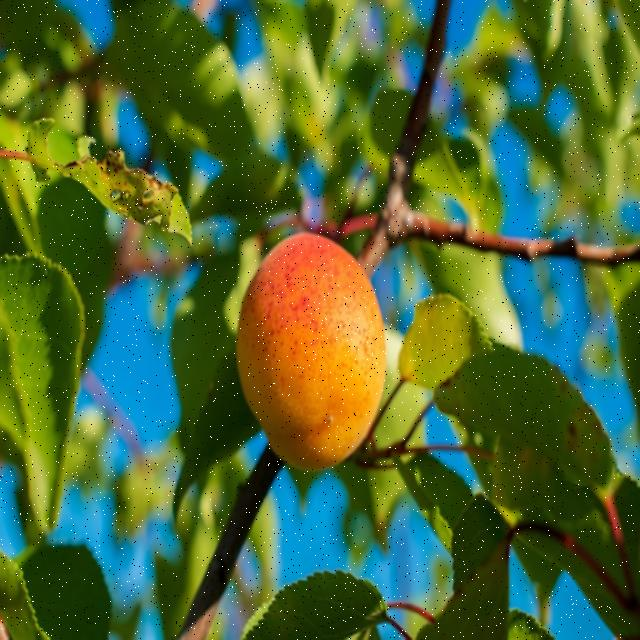kayisi: (247, 222, 397, 480)
yaprak: (10, 29, 640, 186), (414, 275, 603, 495), (0, 260, 83, 534), (34, 116, 191, 248), (168, 279, 255, 444), (2, 537, 103, 640), (247, 579, 396, 640)
